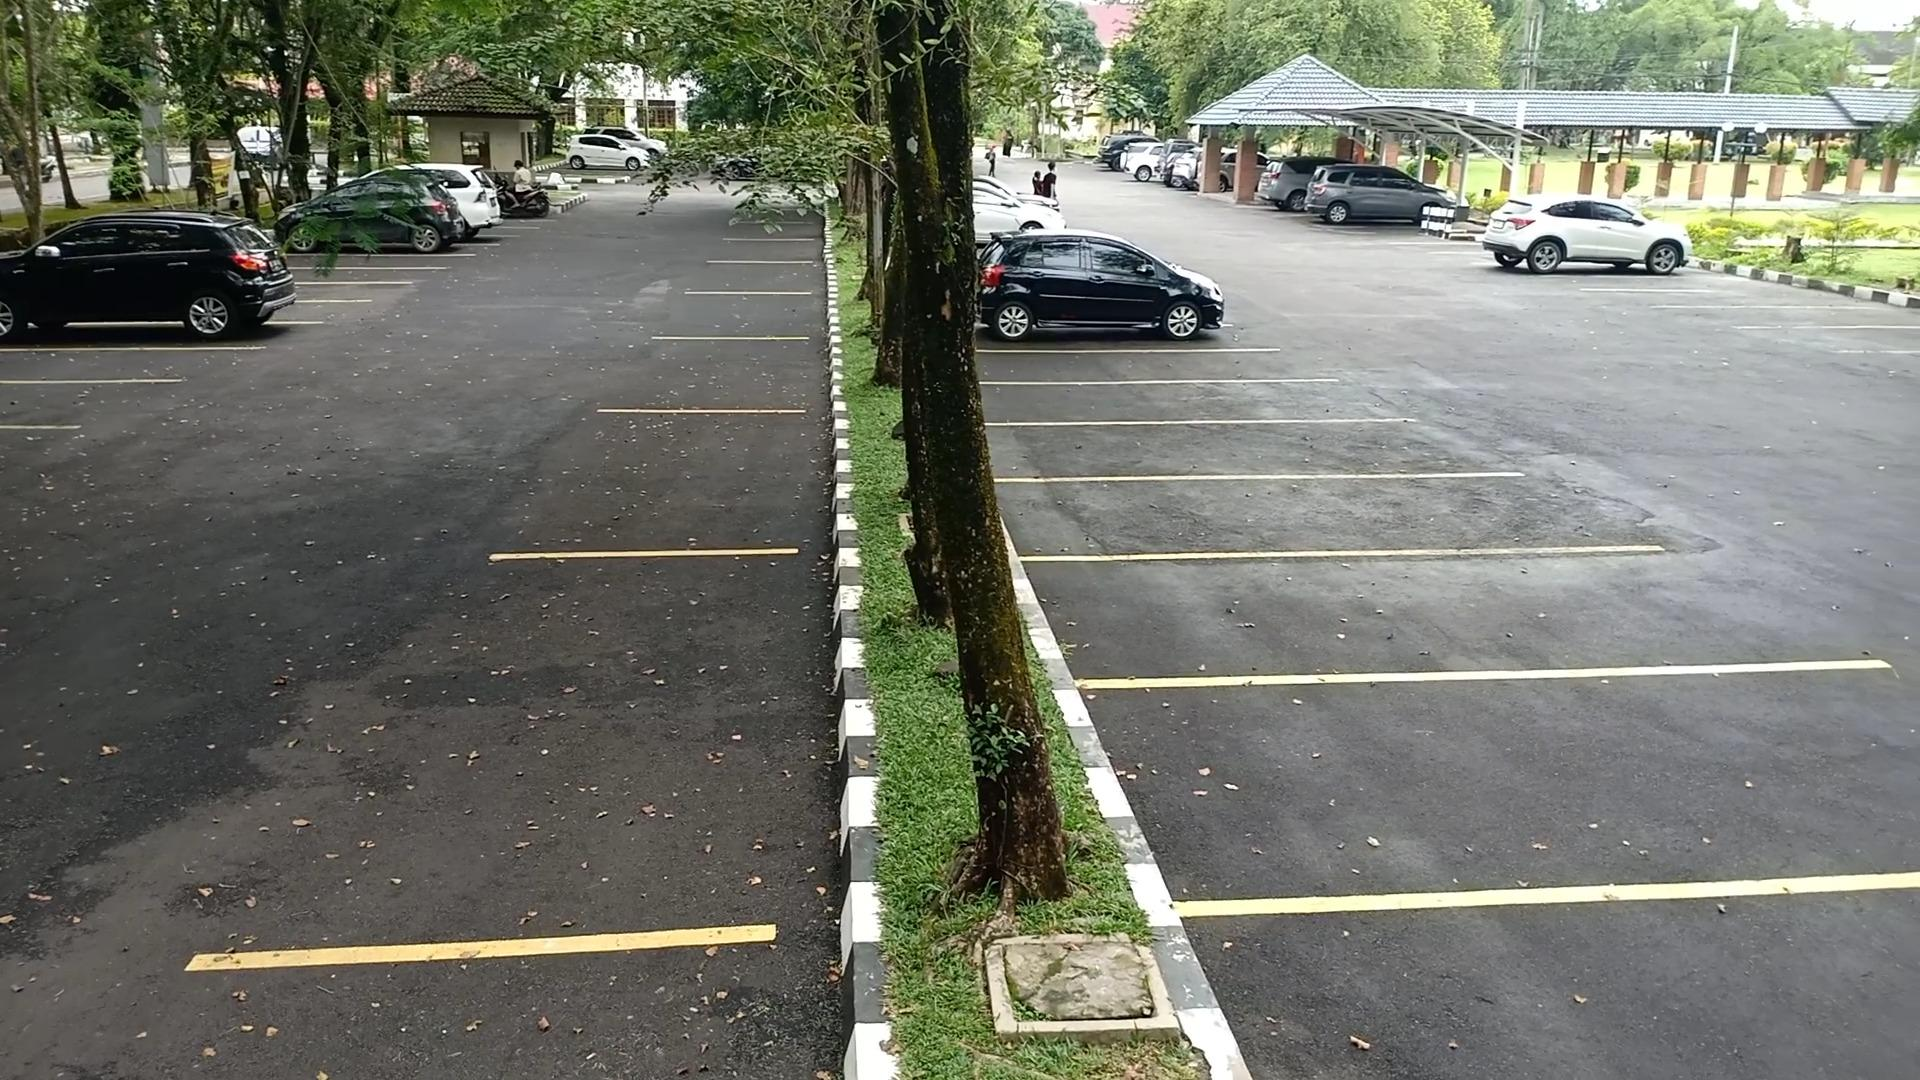empty: (373, 550, 823, 952), (1130, 667, 1777, 917), (1046, 550, 1608, 683), (1005, 475, 1500, 557), (574, 406, 826, 557), (990, 422, 1386, 482), (636, 335, 824, 414), (982, 382, 1284, 426), (974, 348, 1264, 384), (0, 340, 220, 383), (686, 291, 816, 341)
occupied: (0, 232, 300, 352), (973, 247, 1229, 352)
